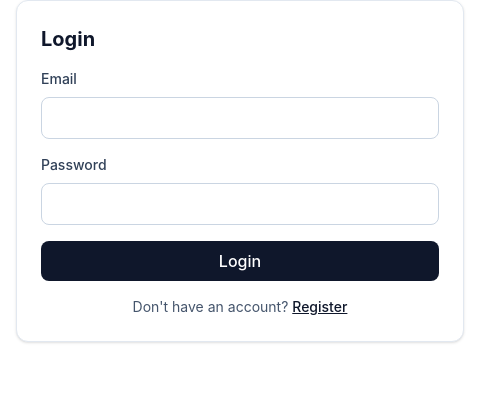
Auth pages › shows an error message for invalid login credentials
The image size is (481, 396).
Step 1. Type "user@example.com" into the field labelled "Email" → point(240, 118), box top-left (41, 97), bottom-right (439, 139)
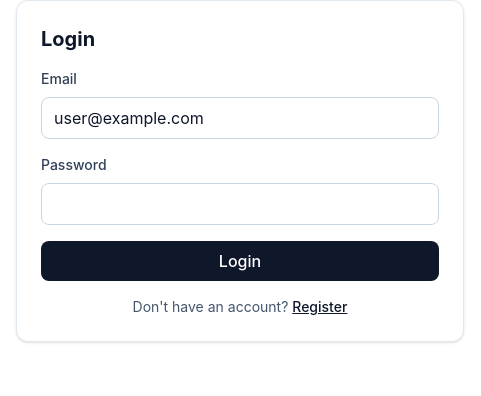
Step 2. Type "wrongpassword" into the password field labelled "Password" → point(240, 204), box top-left (41, 183), bottom-right (439, 225)
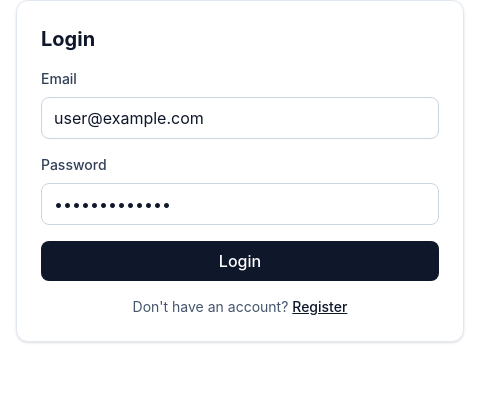
Step 3. Click the button "Login" → point(240, 261), box top-left (41, 241), bottom-right (439, 281)
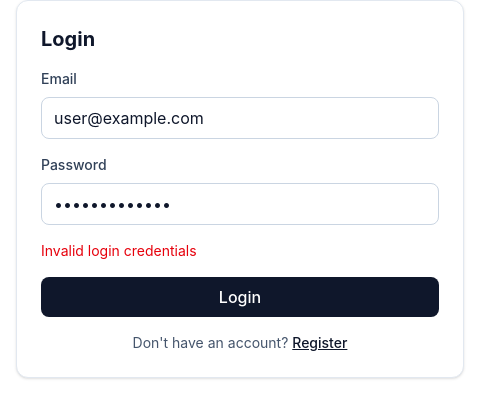
Expected: the text "Invalid login credentials" is shown, top-left (41, 242), bottom-right (197, 259)
